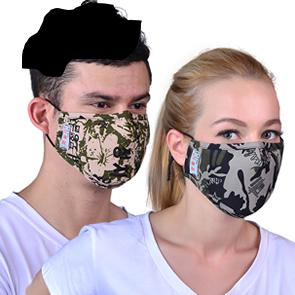OK: (44, 79, 152, 187), (190, 114, 286, 210)
